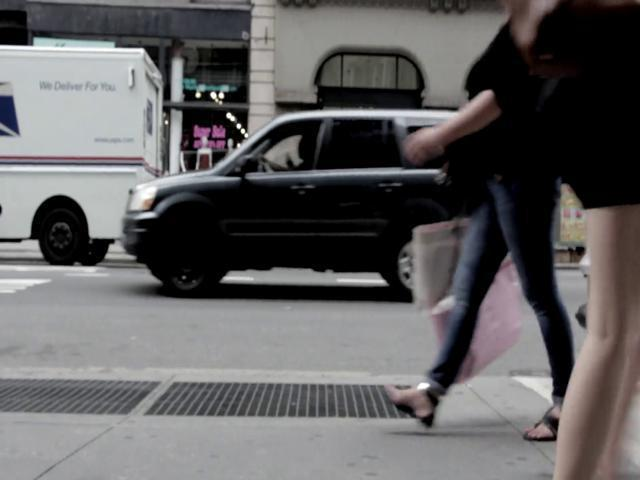shoe: (383, 380, 440, 428), (522, 400, 561, 441)
